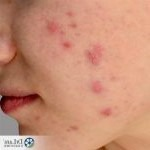Acne: (37, 15, 116, 119)
